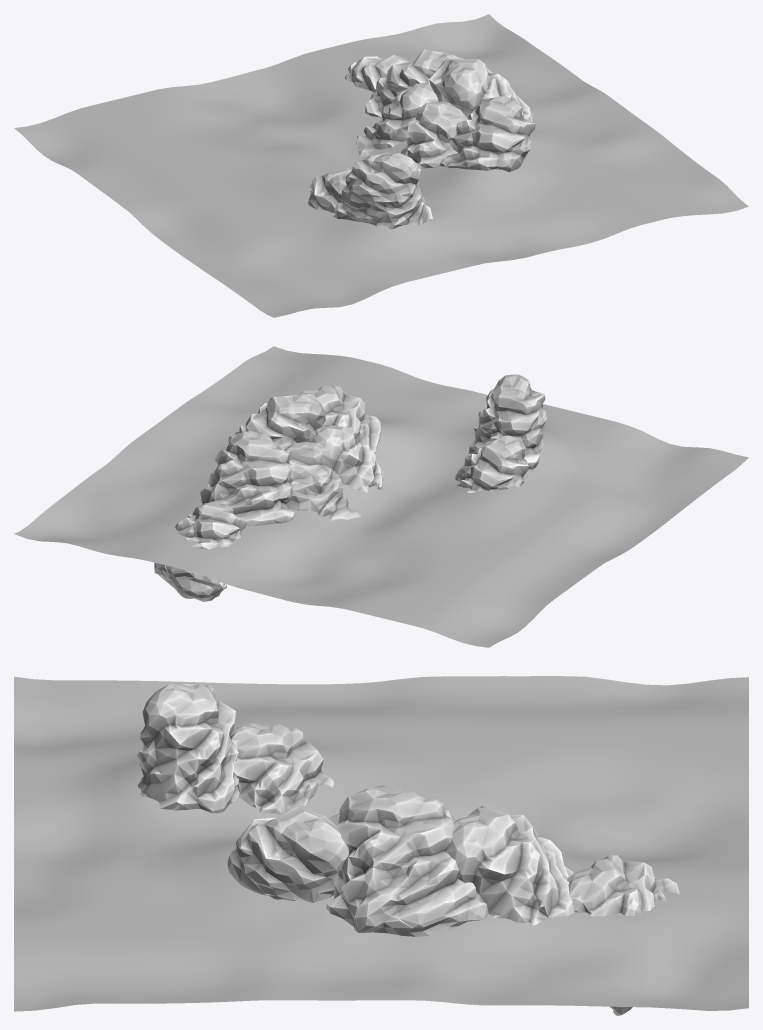
Rendered from SandScene.fbx.
3 renders of one model, top to bottom at view 1: azimuth 30°, elevation 25°; view 2: azimuth 150°, elevation 25°; view 3: azimuth 270°, elevation 25°, orthographic. The views are drawn at different scales.
Parts seen in each view (by area): view 1: Ground, Rock06, Rock08, Rock03, Rock05, Rock04, Rock02, Rock07, Rock01; view 2: Ground, Rock02, Rock06, Rock01, Rock04, Rock03, Rock07, Rock05, Rock08; view 3: Ground, Rock03, Rock06, Rock02, Rock08, Rock07, Rock01.
Boxes of the visible parts, <box> form: Ground: <box>14,14,748,317</box>; Rock06: <box>333,152,432,229</box>; Rock08: <box>440,96,535,171</box>; Rock03: <box>429,58,533,122</box>; Rock05: <box>401,101,468,170</box>; Rock04: <box>356,83,438,156</box>; Rock02: <box>365,49,463,117</box>; Rock07: <box>308,168,351,212</box>; Rock01: <box>345,55,406,92</box>; Ground: <box>14,346,748,647</box>; Rock02: <box>199,431,294,525</box>; Rock06: <box>468,374,547,470</box>; Rock01: <box>154,501,246,601</box>; Rock04: <box>284,442,360,520</box>; Rock03: <box>217,395,325,466</box>; Rock07: <box>455,435,528,492</box>; Rock05: <box>311,425,384,492</box>; Rock08: <box>295,385,381,452</box>; Ground: <box>14,676,748,1011</box>; Rock03: <box>326,785,488,936</box>; Rock06: <box>137,683,239,813</box>; Rock02: <box>446,805,574,925</box>; Rock08: <box>227,807,348,902</box>; Rock07: <box>232,723,334,814</box>; Rock01: <box>567,855,679,1015</box>.
Size of the model in its own units: 280 by 83.55 by 265.
